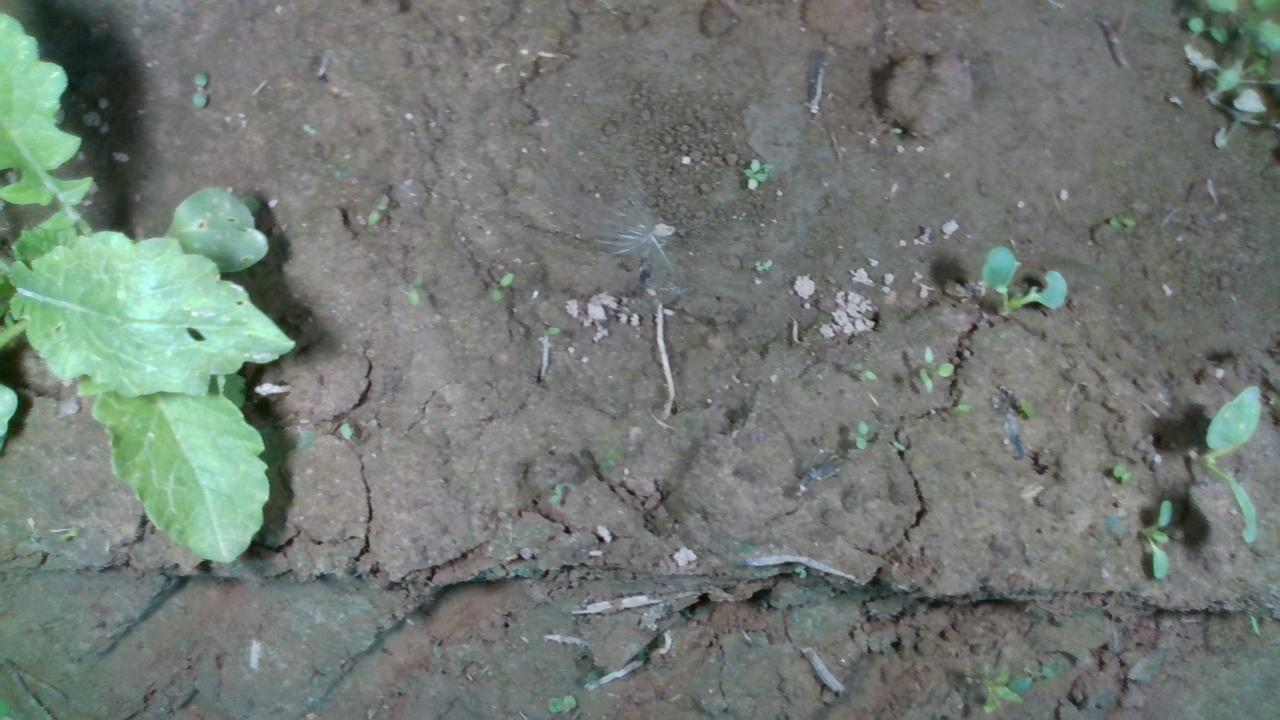weed: (1151, 497, 1173, 582), (740, 157, 766, 193), (487, 270, 513, 301), (191, 69, 209, 110), (546, 692, 577, 714), (1105, 212, 1136, 230), (1110, 463, 1134, 483), (853, 418, 868, 449)
